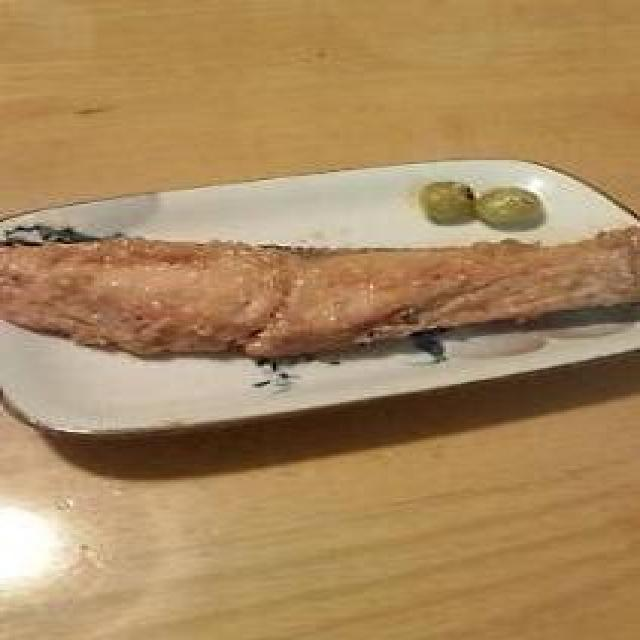熟制海鲜: (0, 196, 640, 352)
